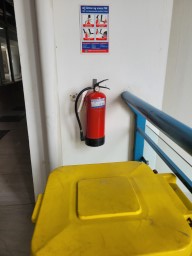fire_extinguisher: (59, 109, 110, 158)
